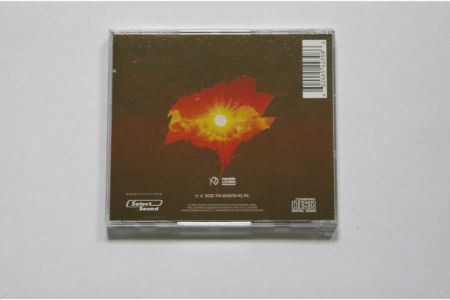album: (105, 27, 336, 230)
